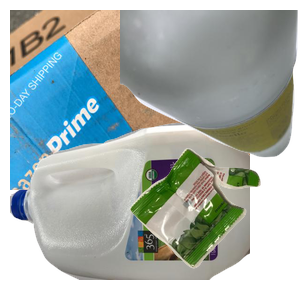cardboard: (10, 10, 250, 190)
glass: (120, 10, 300, 160)
plastic: (10, 120, 250, 300)
trash: (127, 146, 300, 300)
